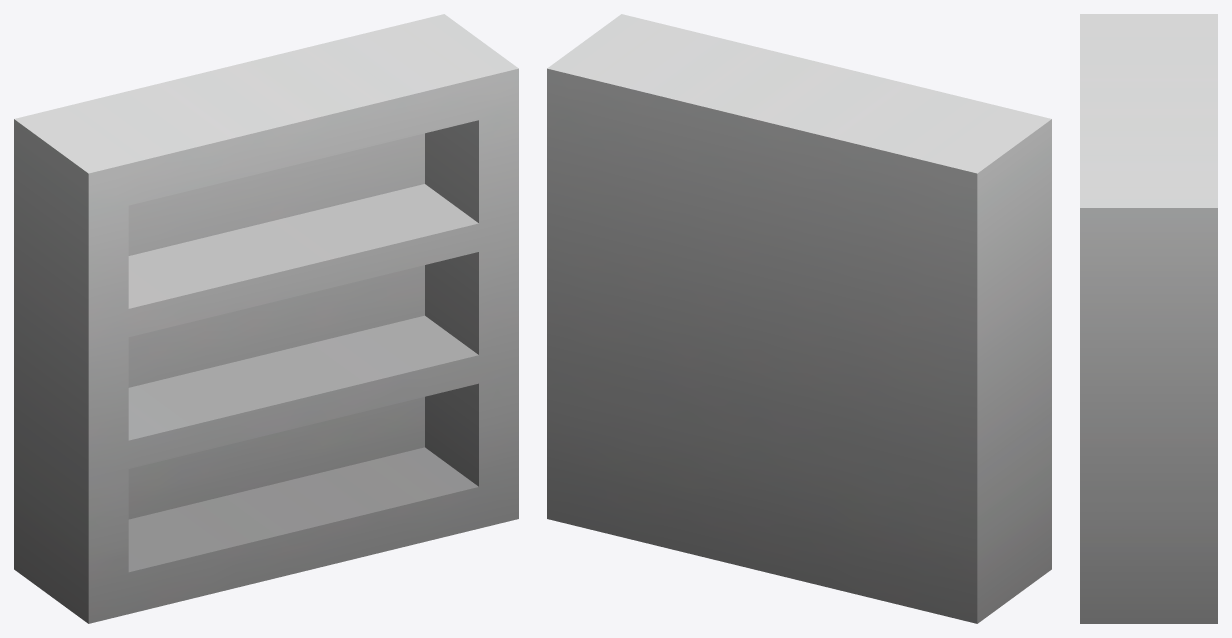
Rendered from EstanteBio.fbx.
3 renders of one model, left to right at view 1: azimuth 30°, elevation 25°; view 2: azimuth 150°, elevation 25°; view 3: azimuth 270°, elevation 25°, orthographic. The views are drawn at different scales.
Visible parts, largest first — view 1: EstanteBio; view 2: EstanteBio; view 3: EstanteBio.
Part boxes in pixels (x1,y1,x2,y2): EstanteBio: (14,14,518,623); EstanteBio: (547,14,1051,623); EstanteBio: (1080,14,1217,623).
Bounding box in the file's own units: 137 × 137 × 40.98.
Materials: 1 (1 with a texture image).
